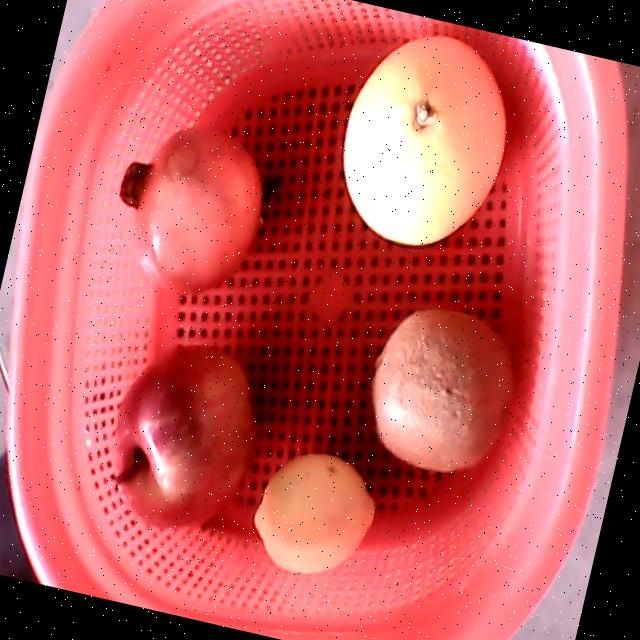apple: (111, 340, 258, 529)
kiwi: (372, 306, 513, 471)
lemon: (251, 453, 374, 573)
orange: (342, 32, 506, 244)
pomegranate: (117, 123, 261, 294)
